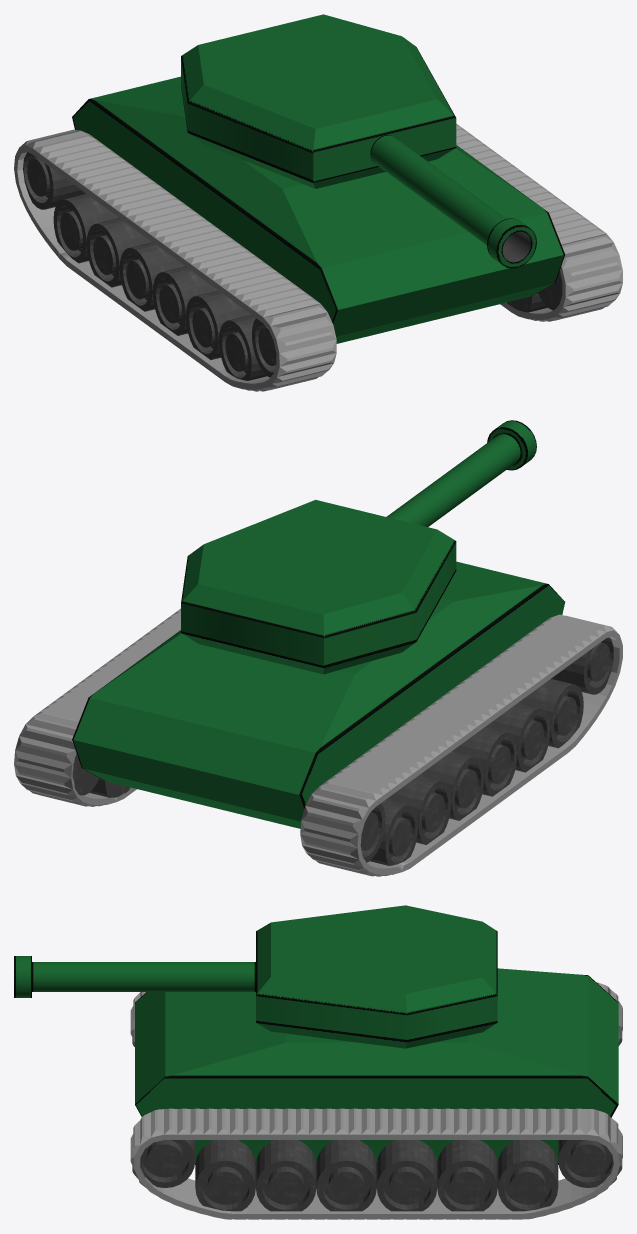
3 renders of one model, top to bottom at view 1: azimuth 30°, elevation 25°; view 2: azimuth 150°, elevation 25°; view 3: azimuth 270°, elevation 25°, orthographic. The views are drawn at different scales.
Visible parts, largest first — view 1: TANK_BODY, Line011, Line000; view 2: TANK_BODY, Line011, Line000; view 3: TANK_BODY, Line000, Line011.
Boxes of the visible parts, x1=… form: TANK_BODY: x1=23, y1=14, x2=565, y2=380; Line011: x1=14, y1=129, x2=336, y2=391; Line000: x1=456, y1=124, x2=622, y2=321; TANK_BODY: x1=72, y1=420, x2=613, y2=865; Line011: x1=300, y1=614, x2=622, y2=876; Line000: x1=14, y1=608, x2=180, y2=806; TANK_BODY: x1=14, y1=905, x2=618, y2=1211; Line000: x1=130, y1=1108, x2=622, y2=1219; Line011: x1=130, y1=982, x2=622, y2=1046.
Bounding box in the file's own units: 60 × 35.75 × 101.
Materials: 2 (1 with a texture image).
